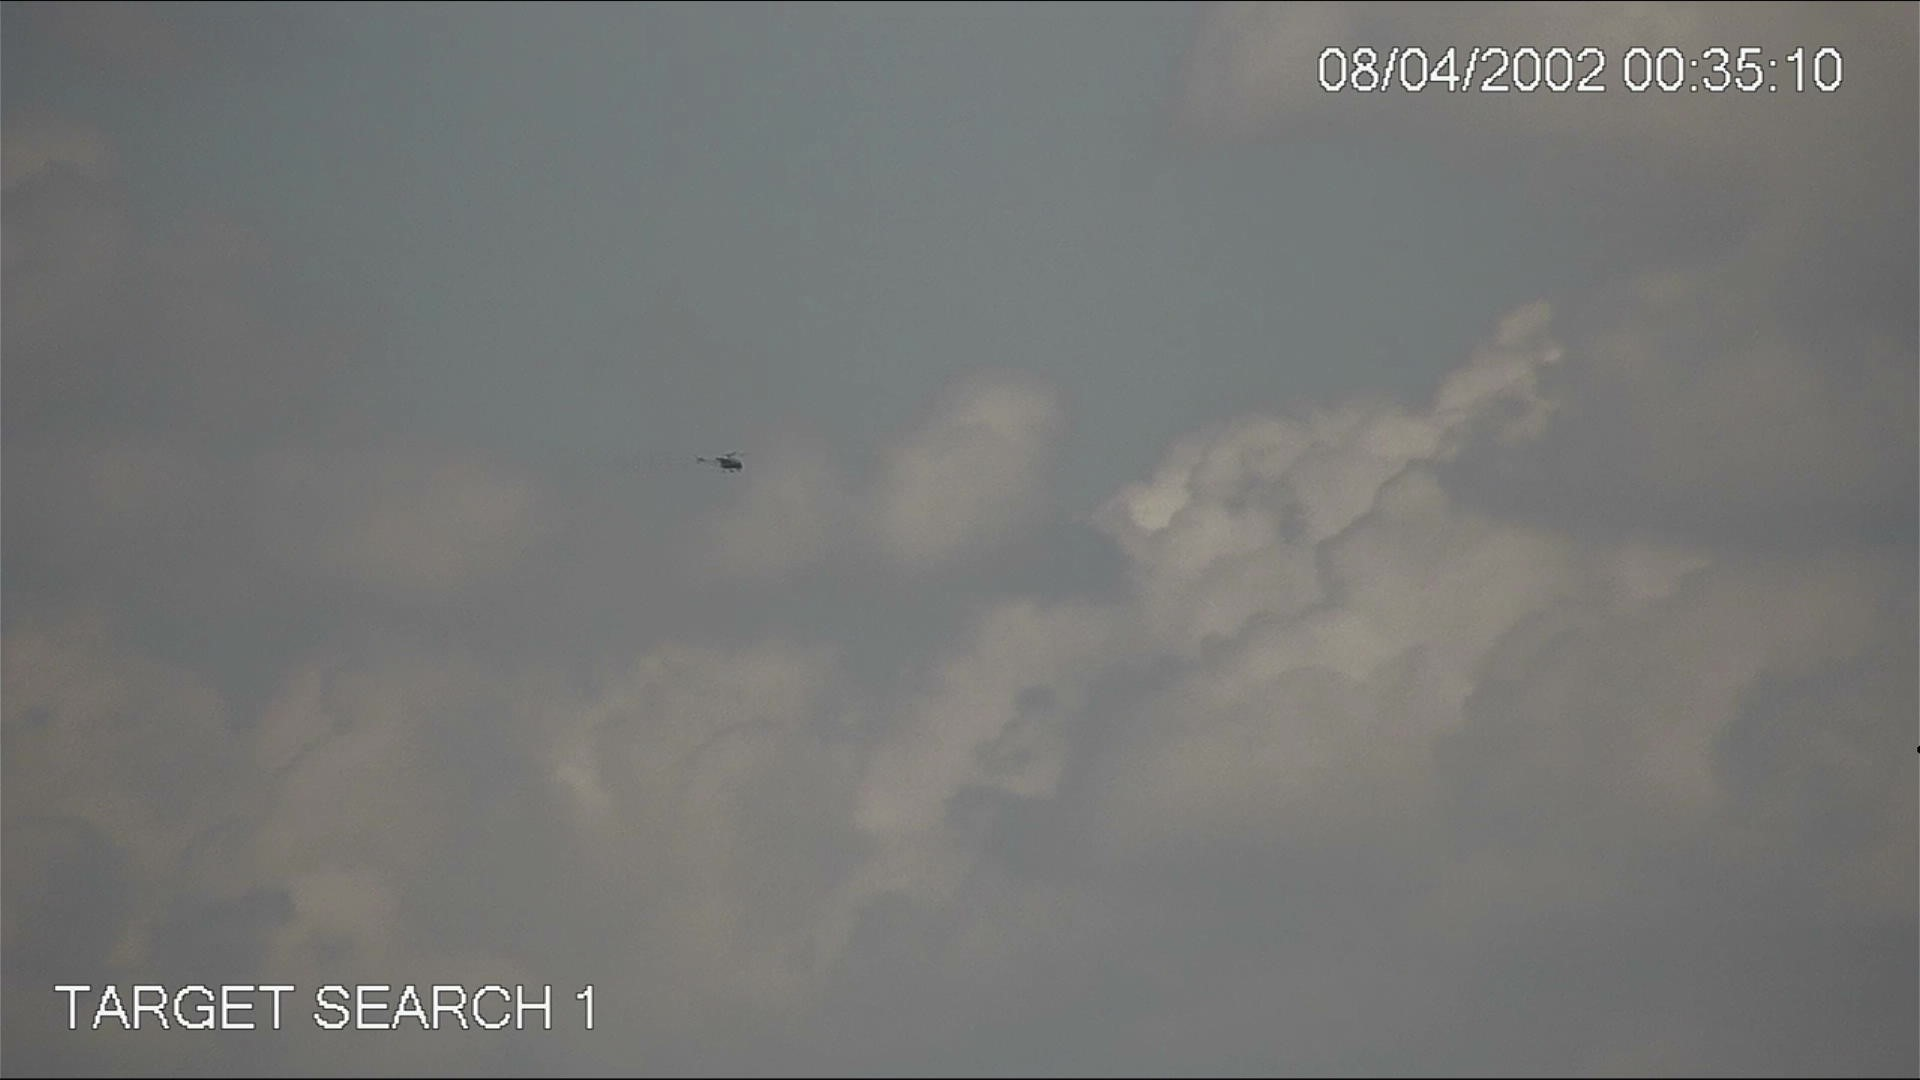SU_30: (692, 450, 753, 473)
